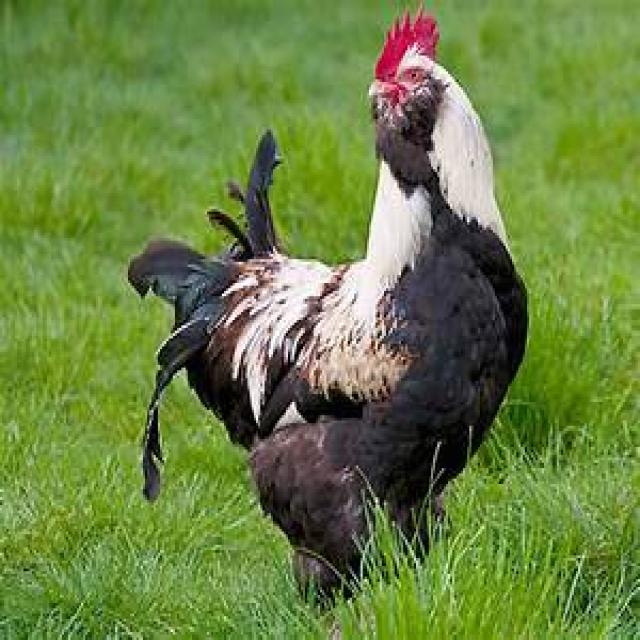hen: (129, 12, 526, 588)
